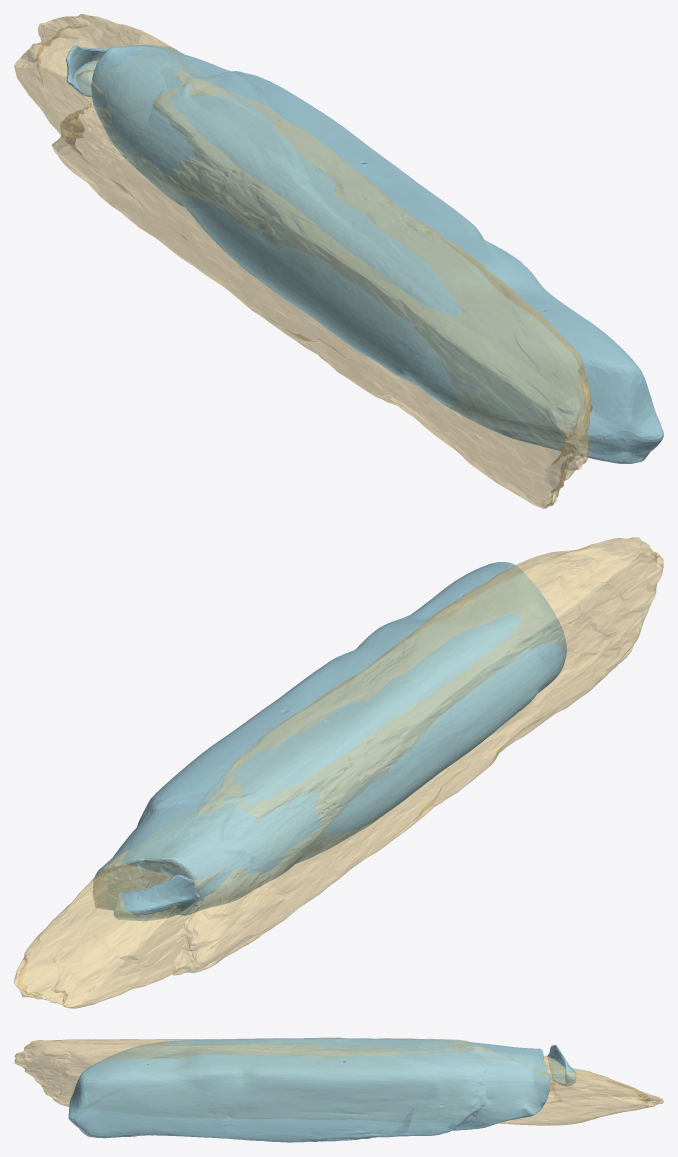
The model's file is overlay-7168778.glb.
3 renders of one model, top to bottom at view 1: azimuth 30°, elevation 25°; view 2: azimuth 150°, elevation 25°; view 3: azimuth 270°, elevation 25°, orthographic. The views are drawn at different scales.
Visible parts, largest first — view 1: admitted_hypothesis_blue, true_scan_amber; view 2: true_scan_amber, admitted_hypothesis_blue; view 3: admitted_hypothesis_blue, true_scan_amber.
Part boxes in pixels (box(x1,y1,x2,y2)): admitted_hypothesis_blue: box(66, 44, 663, 463); true_scan_amber: box(14, 14, 592, 508); true_scan_amber: box(14, 537, 663, 1008); admitted_hypothesis_blue: box(92, 562, 566, 921); admitted_hypothesis_blue: box(68, 1038, 576, 1142); true_scan_amber: box(14, 1037, 663, 1125).
Size of the model in its own units: 0.1863 by 0.1575 by 1.17.
